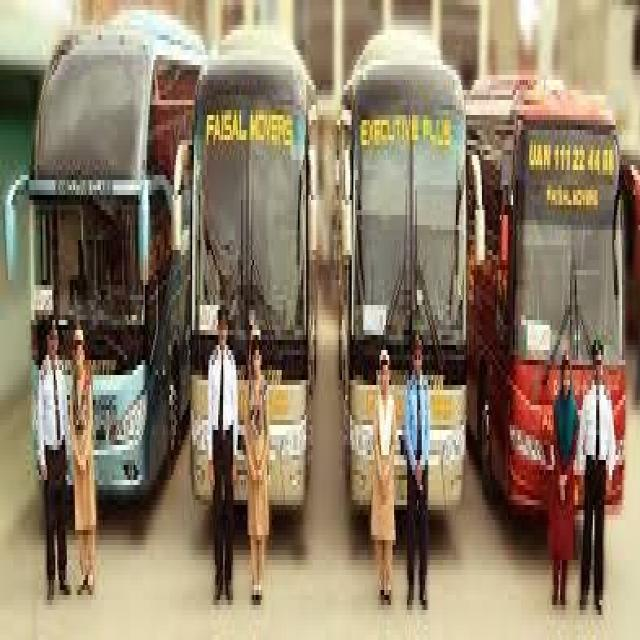bus: (461, 0, 640, 580), (16, 11, 194, 506), (329, 26, 472, 545), (186, 21, 314, 550)
